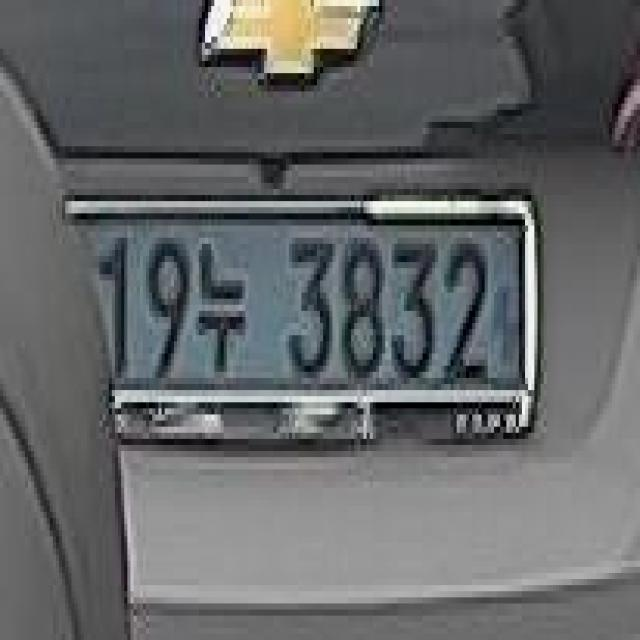EV_plate: (86, 169, 541, 466)
